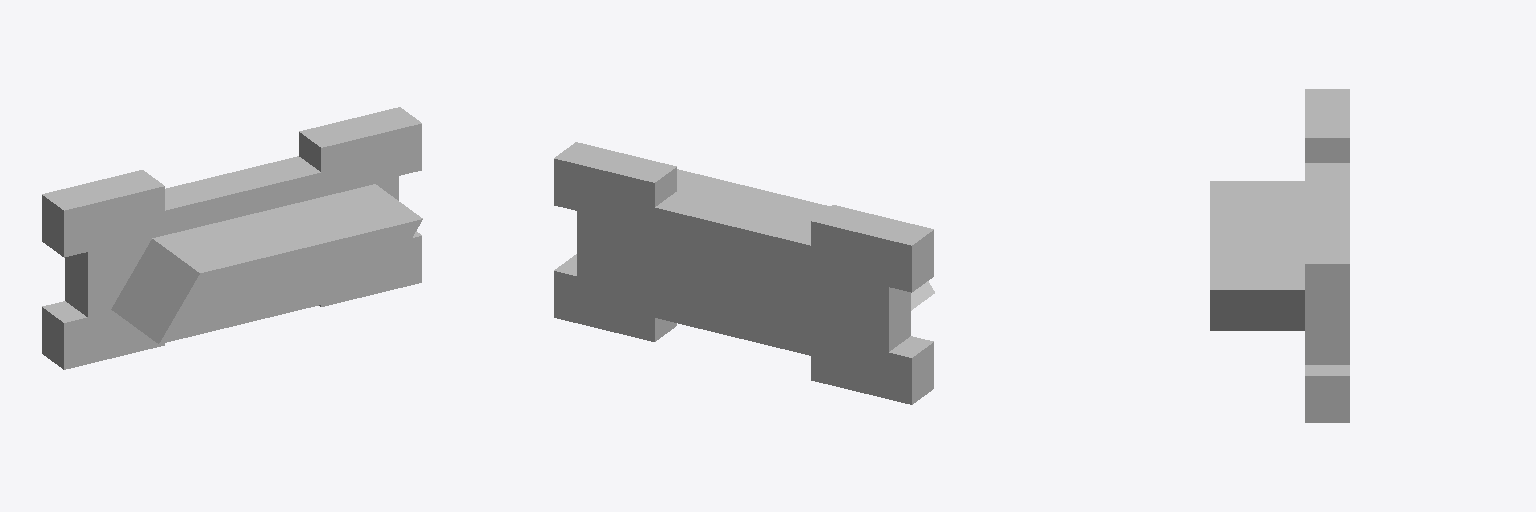
File: call button.obj
3 views of the same model, side by side, from view 1: azimuth 30°, elevation 25°; view 2: azimuth 150°, elevation 25°; view 3: azimuth 270°, elevation 25° (orthographic).
Visible parts, largest first — view 1: Mesh1 Button1 Model; view 2: Mesh1 Button1 Model; view 3: Mesh1 Button1 Model.
Boxes of the visible parts, x1=… form: Mesh1 Button1 Model: x1=42, y1=107, x2=422, y2=369; Mesh1 Button1 Model: x1=554, y1=142, x2=934, y2=404; Mesh1 Button1 Model: x1=1210, y1=89, x2=1349, y2=422.
Size of the model in its own units: 22.95 by 9.75 by 7.8.